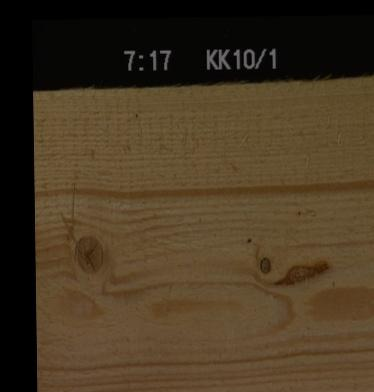dry_knot: (258, 254, 271, 274)
sound_knot: (72, 231, 103, 273)
